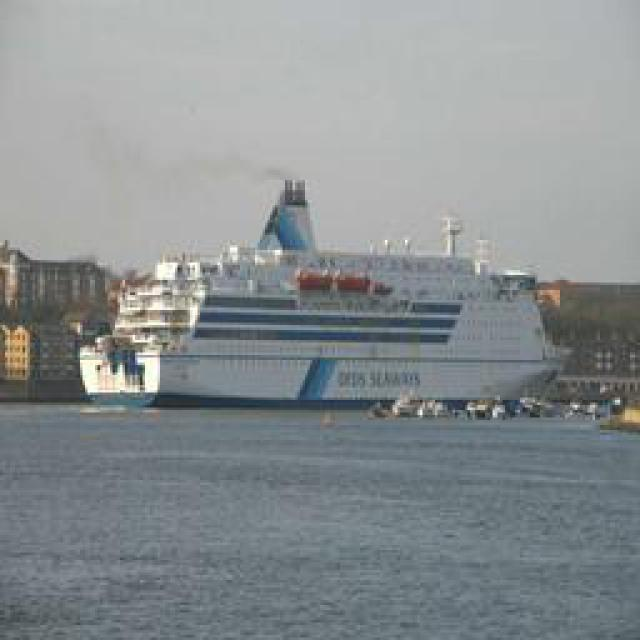Ship: (80, 246, 568, 414)
